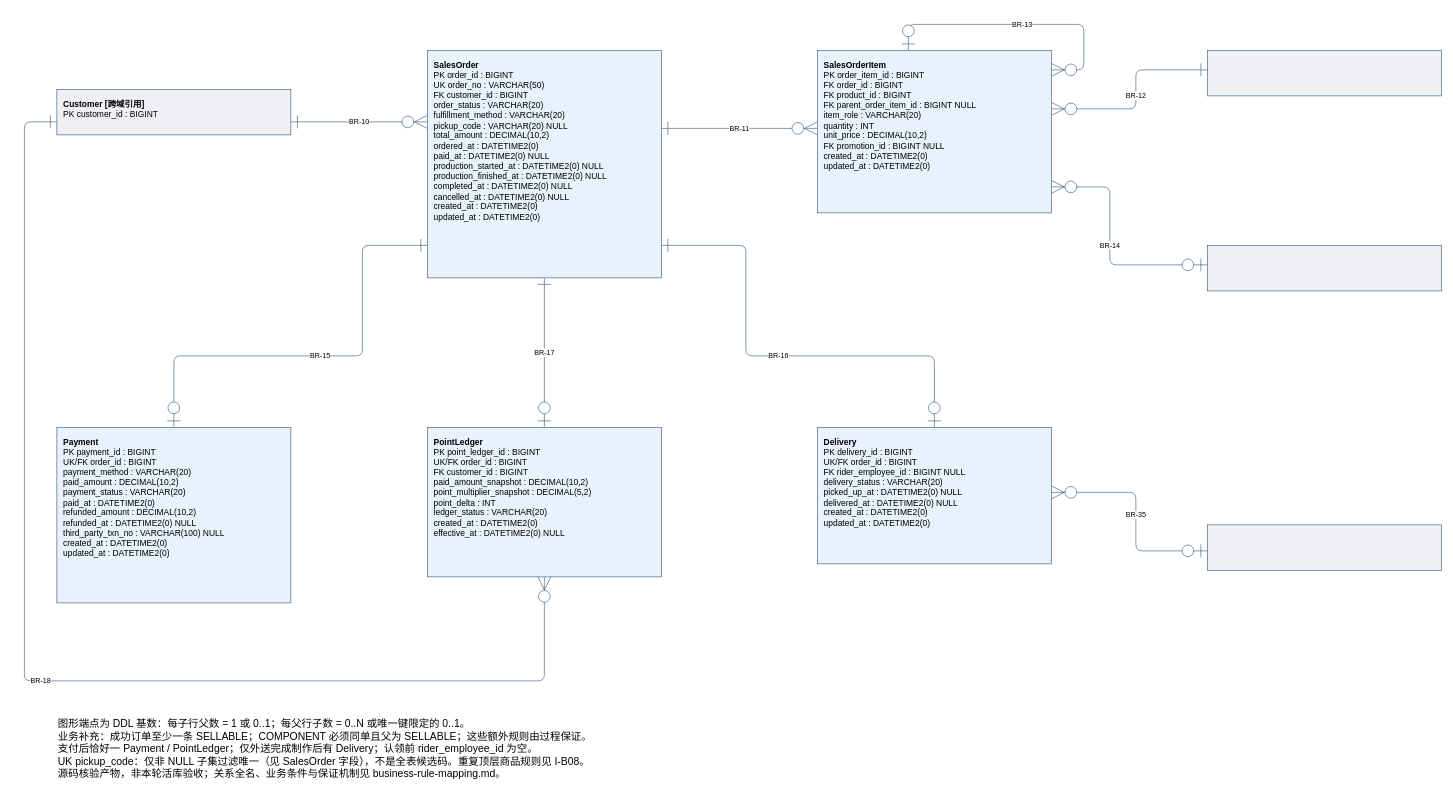
Some shapes in this 1453 by 803 pixel diagram are drawn without their labels. Each missing label, with the box of its shape:
EmployeeAccount [跨域引用] PK employee_id : BIGINT: (1207, 524, 1441, 570)
Product [跨域引用] PK product_id : BIGINT: (1207, 50, 1441, 96)
Promotion [跨域引用] PK promotion_id : BIGINT: (1207, 245, 1441, 291)
